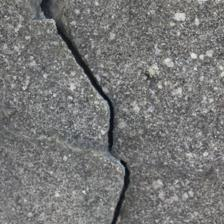Crack: (20, 13, 94, 124), (3, 0, 145, 57)
